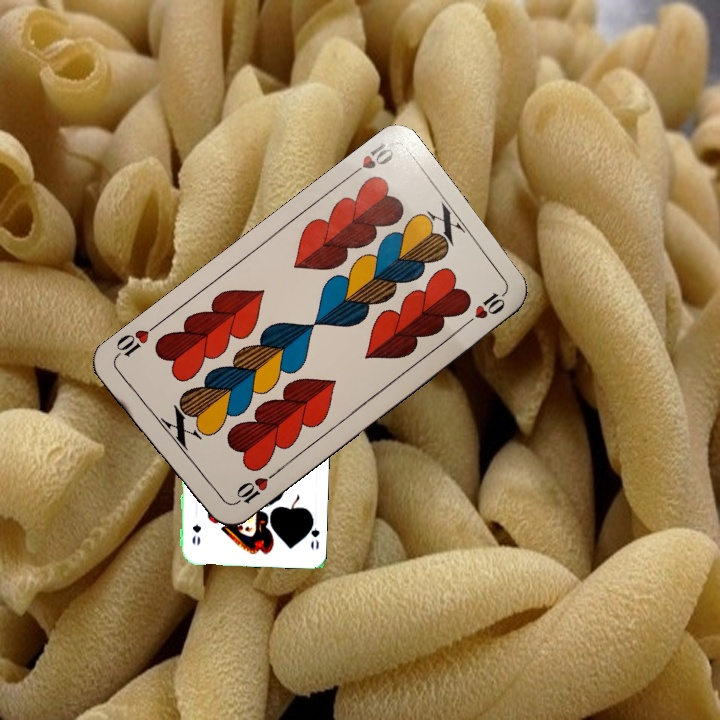GO: (302, 512, 322, 552)
H10: (342, 138, 396, 182), (227, 468, 278, 509)
